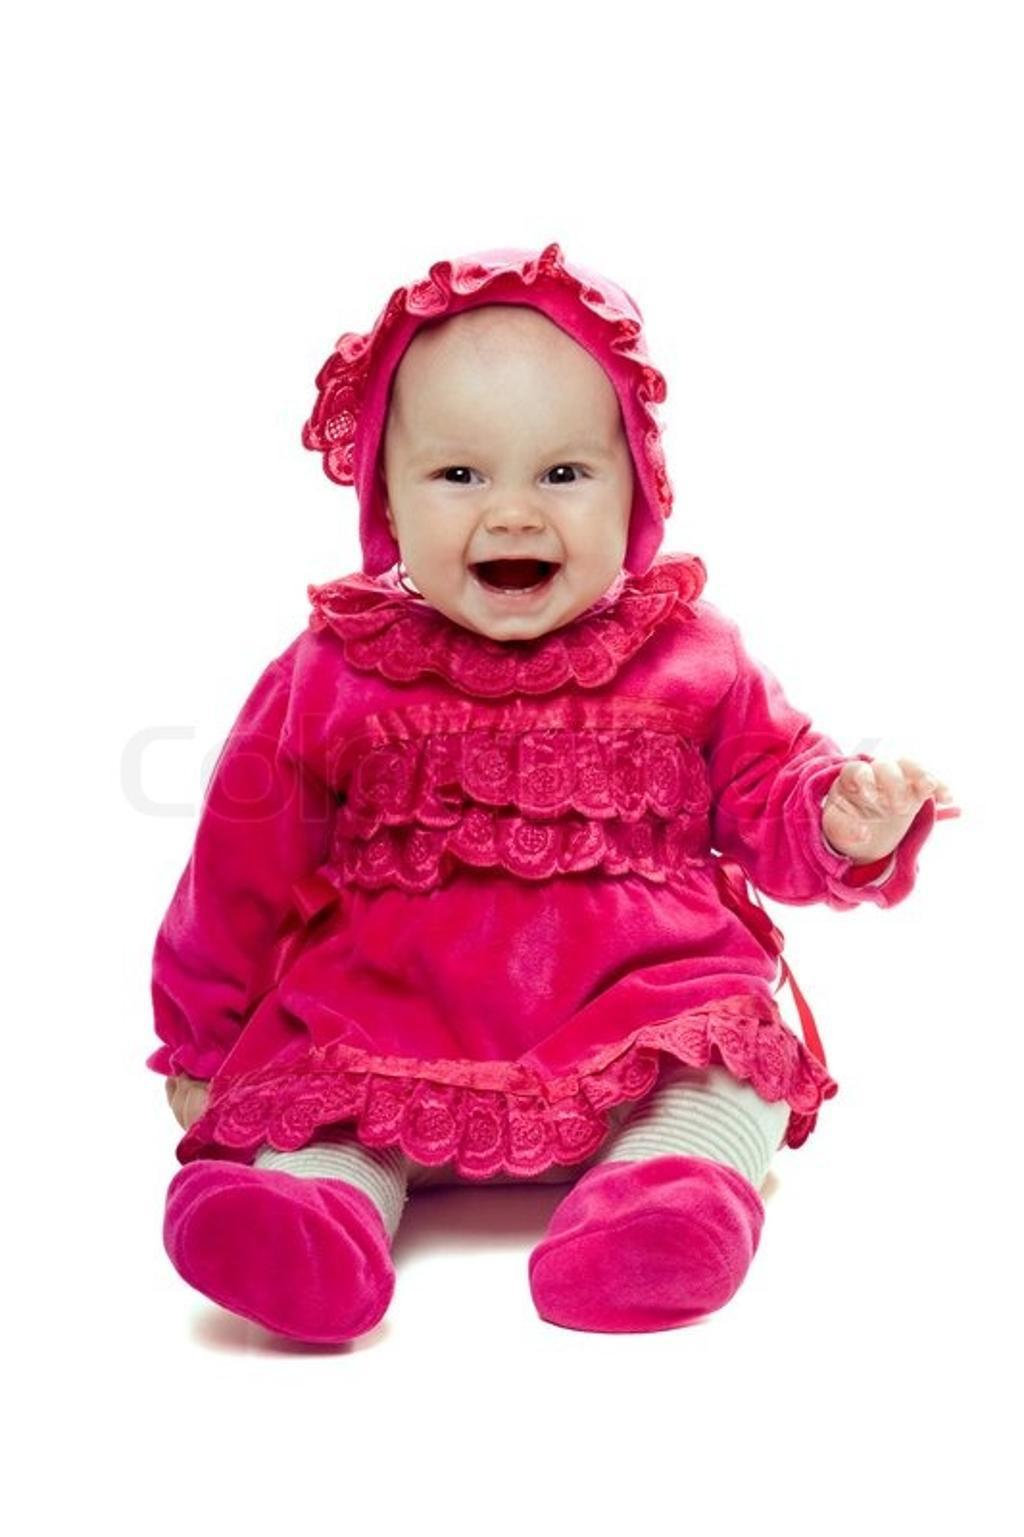face: (385, 316, 634, 637)
